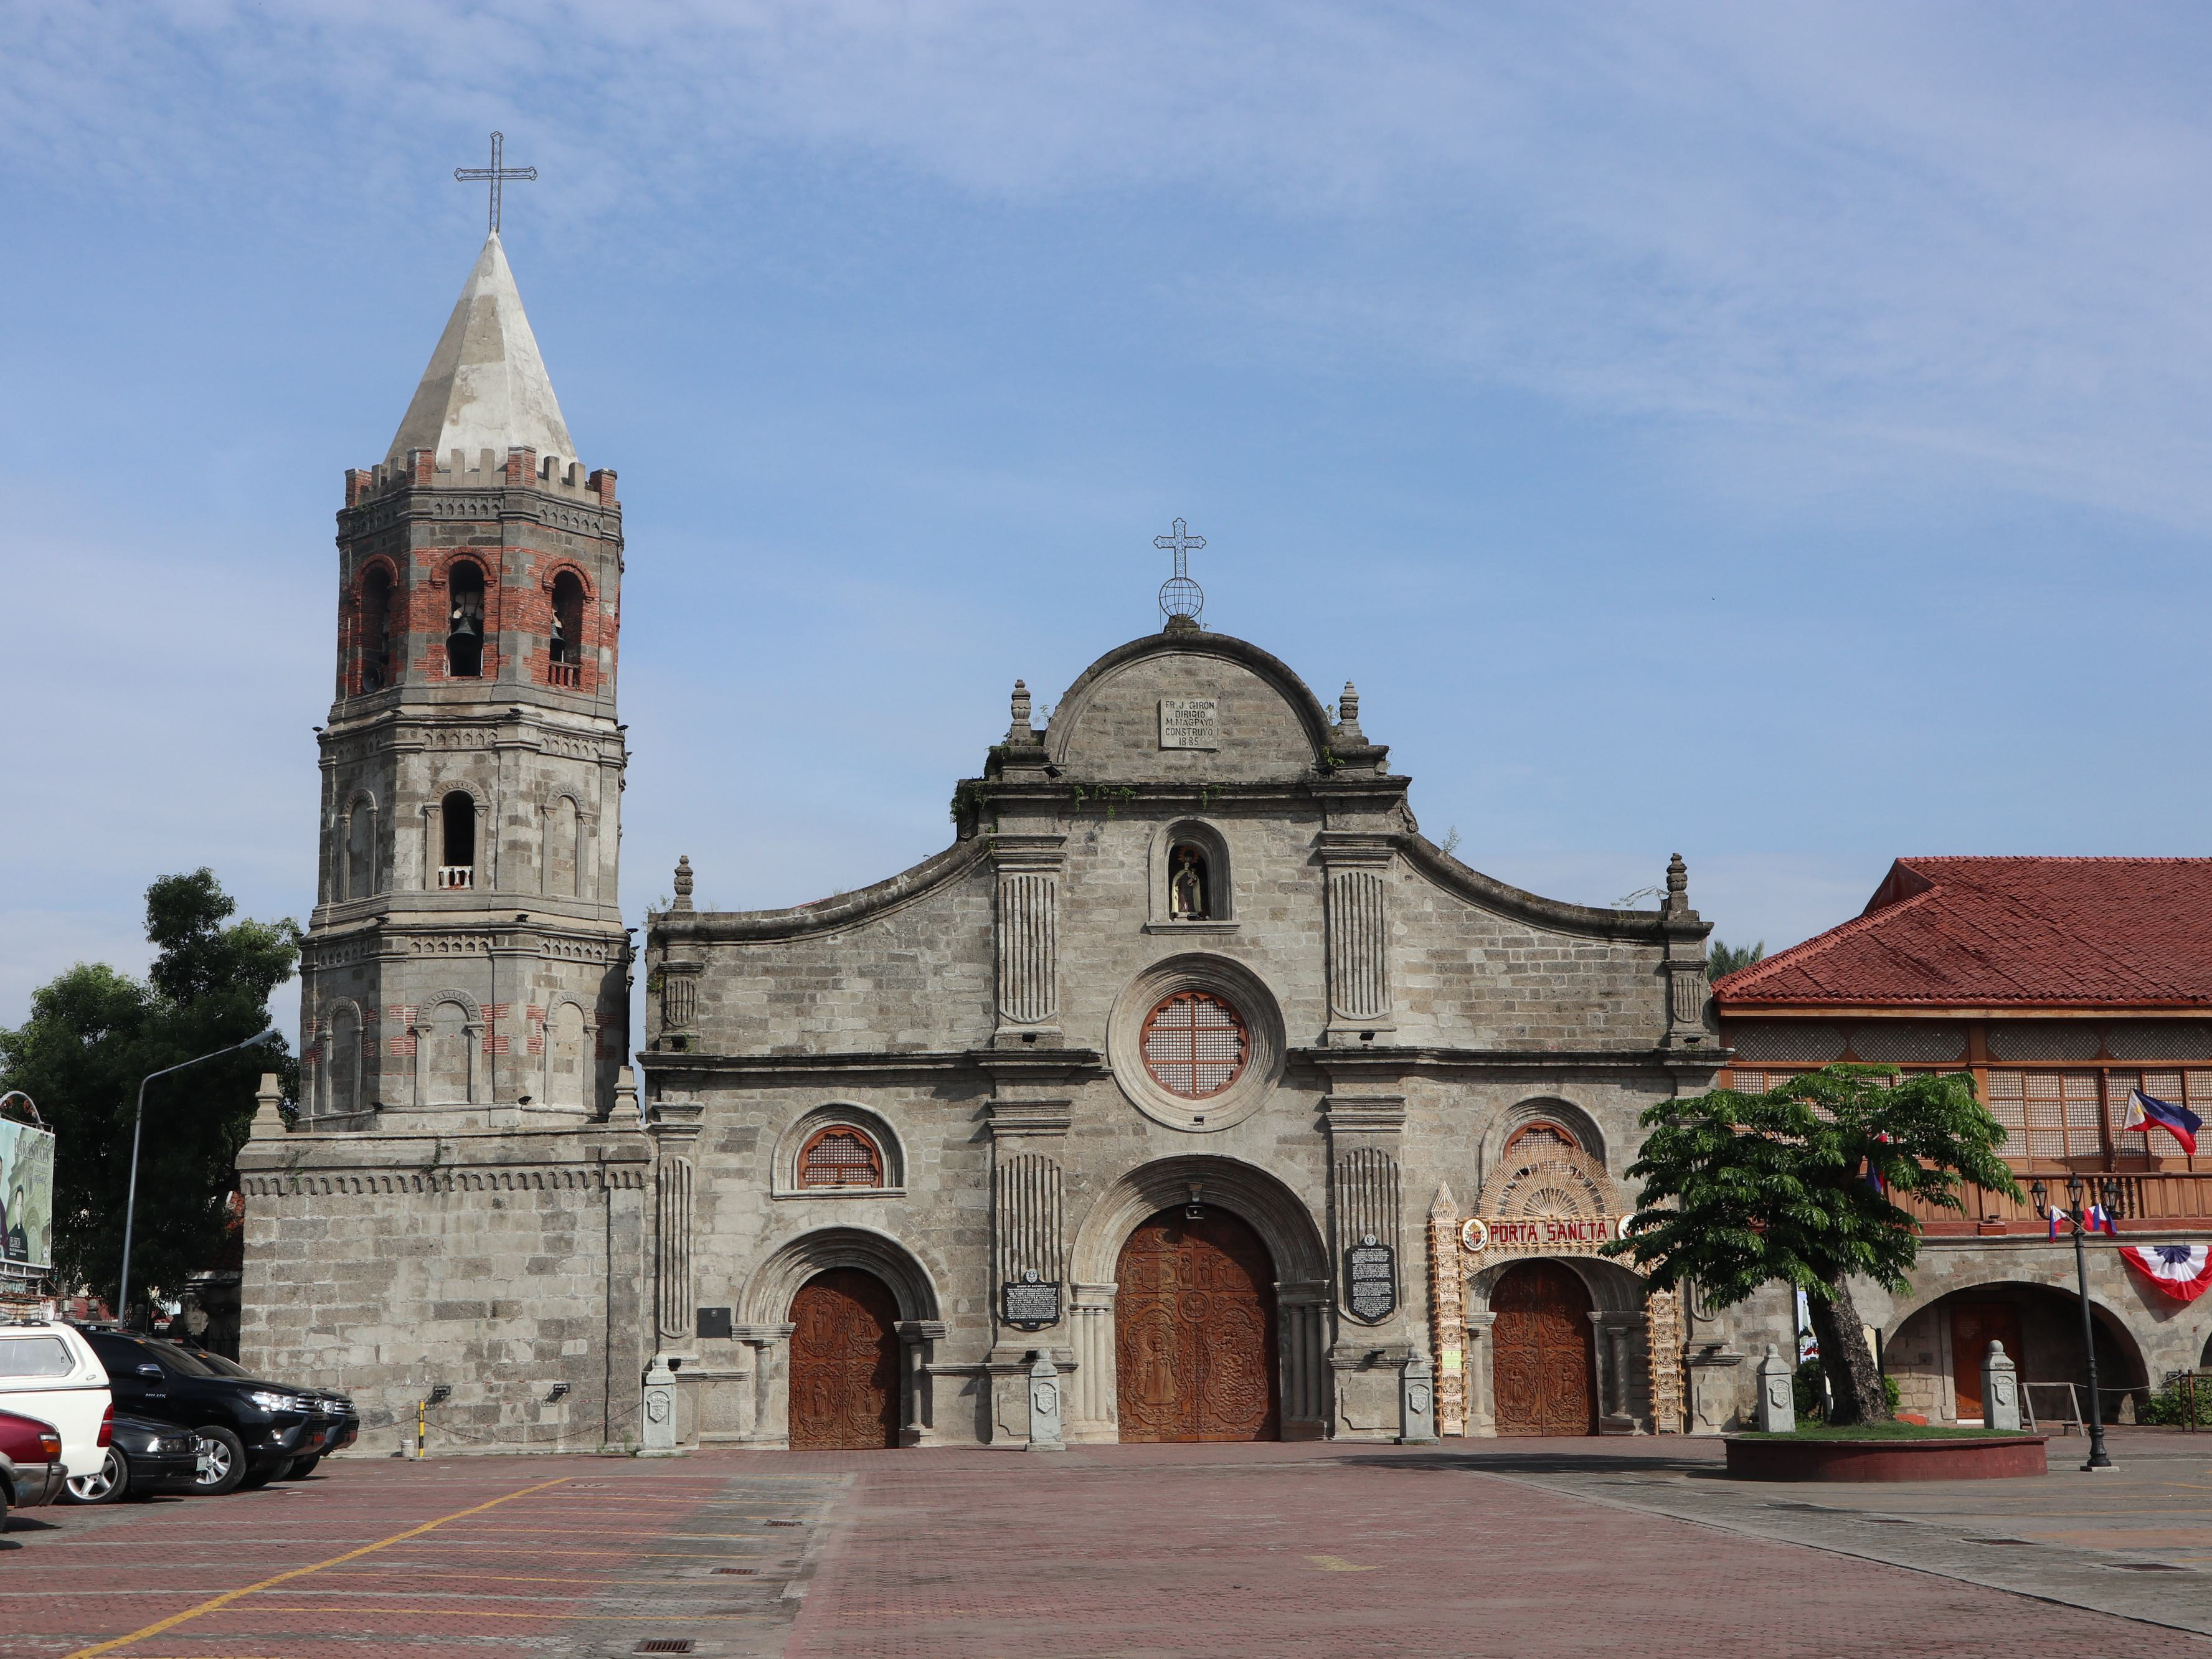barasoain_church_malolos_bulacan: (237, 124, 1791, 1466)
